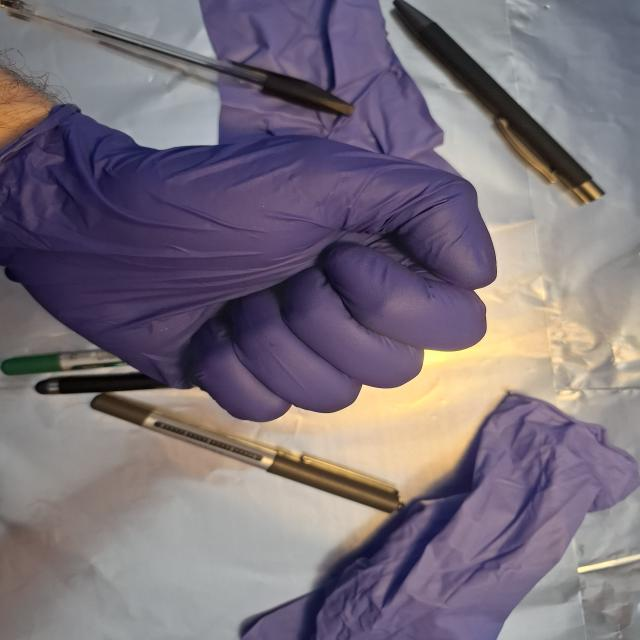glove_on: (4, 130, 505, 426)
